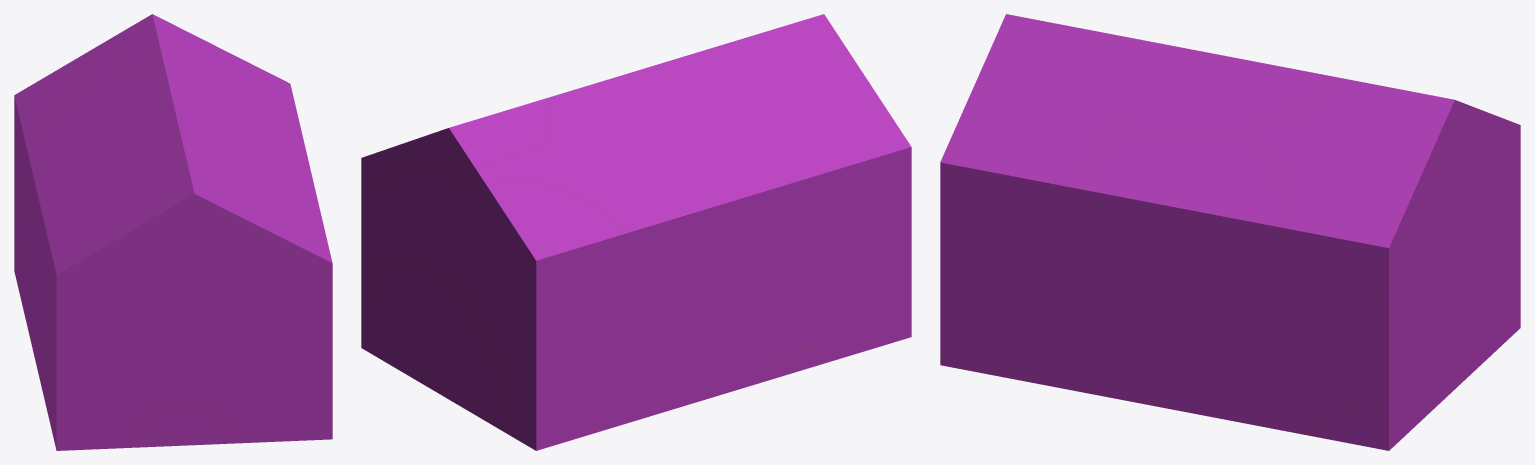
File: Settlement_Purple.fbx
The picture shows the model from 3 angles, left to right: view 1: azimuth 30°, elevation 25°; view 2: azimuth 150°, elevation 25°; view 3: azimuth 270°, elevation 25°; orthographic projection. The views are drawn at different scales.
Visible parts, largest first — view 1: node_id4; view 2: node_id4; view 3: node_id4.
Boxes of the visible parts, left/top/right/bottom form: node_id4: left=14, top=14, right=332, bottom=450; node_id4: left=361, top=14, right=911, bottom=450; node_id4: left=940, top=14, right=1520, bottom=450.
Bounding box in the file's own units: 0.1779 × 0.1151 × 0.209.
1 material, 1 textured.
